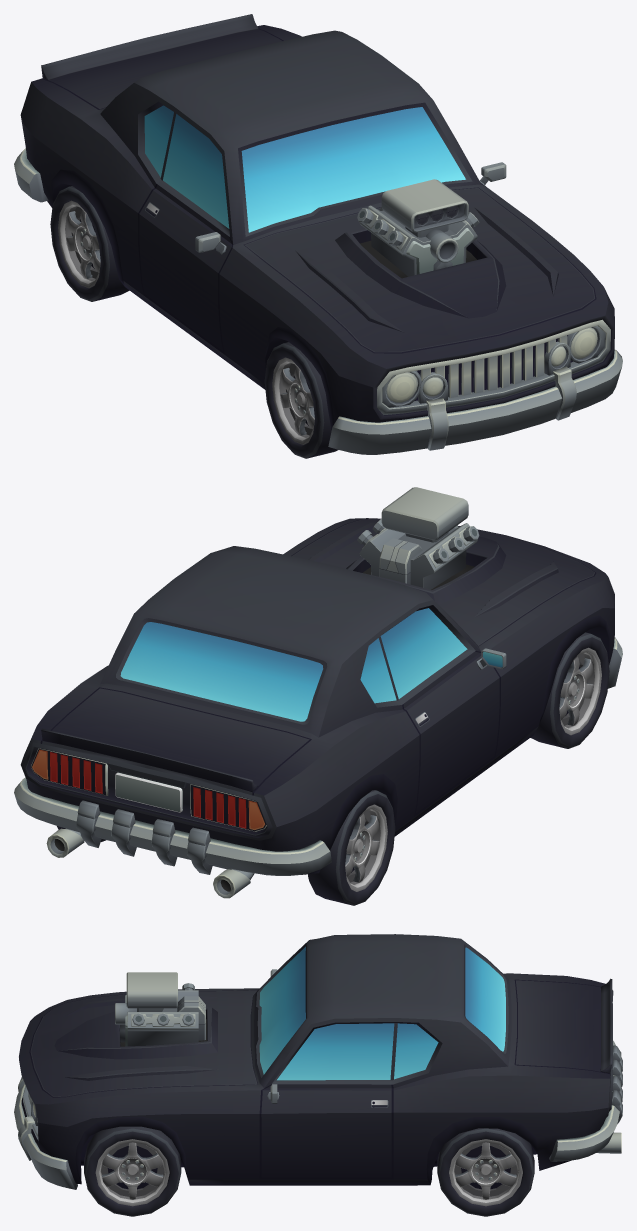
The model's file is 1754061987830-fast-72.glb.
3 renders of one model, top to bottom at view 1: azimuth 30°, elevation 25°; view 2: azimuth 150°, elevation 25°; view 3: azimuth 270°, elevation 25°, orthographic. The views are drawn at different scales.
Visible parts, largest first — view 1: Mister Beef_4, Mister Beef_FrontRightWheel.003, Mister Beef_RearRightWheel.003; view 2: Mister Beef_4, Mister Beef_RearRightWheel.003, Mister Beef_FrontRightWheel.003; view 3: Mister Beef_4, Mister Beef_FrontLeftWheel.003, Mister Beef_RearLeftWheel.003.
Part boxes in pixels (x1,y1,x2,y2): Mister Beef_4: [14, 14, 622, 454]; Mister Beef_FrontRightWheel.003: [264, 342, 337, 458]; Mister Beef_RearRightWheel.003: [50, 186, 129, 301]; Mister Beef_4: [14, 487, 622, 898]; Mister Beef_RearRightWheel.003: [308, 790, 395, 905]; Mister Beef_FrontRightWheel.003: [530, 632, 609, 748]; Mister Beef_4: [14, 934, 622, 1189]; Mister Beef_FrontLeftWheel.003: [84, 1126, 181, 1216]; Mister Beef_RearLeftWheel.003: [437, 1128, 534, 1216].
Bounding box in the file's own units: 2.38 × 1.7 × 4.94.
Materials: 1 (1 with a texture image).
